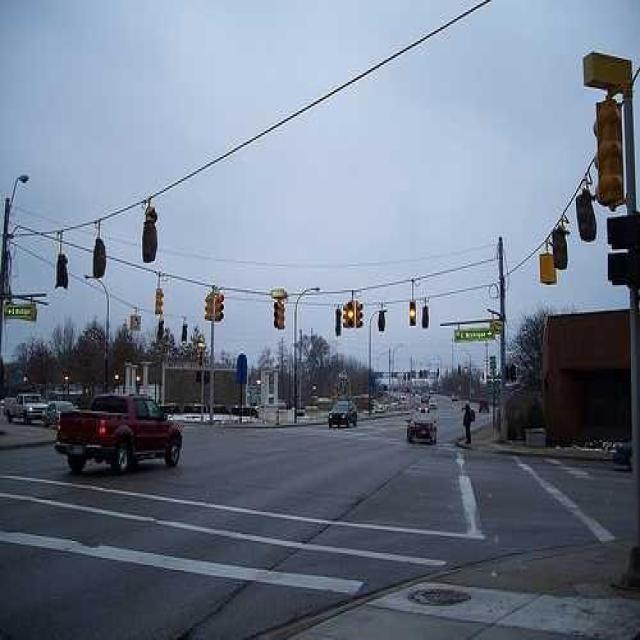Traffic Light -Yellow-: (338, 297, 367, 333), (407, 298, 416, 328)
